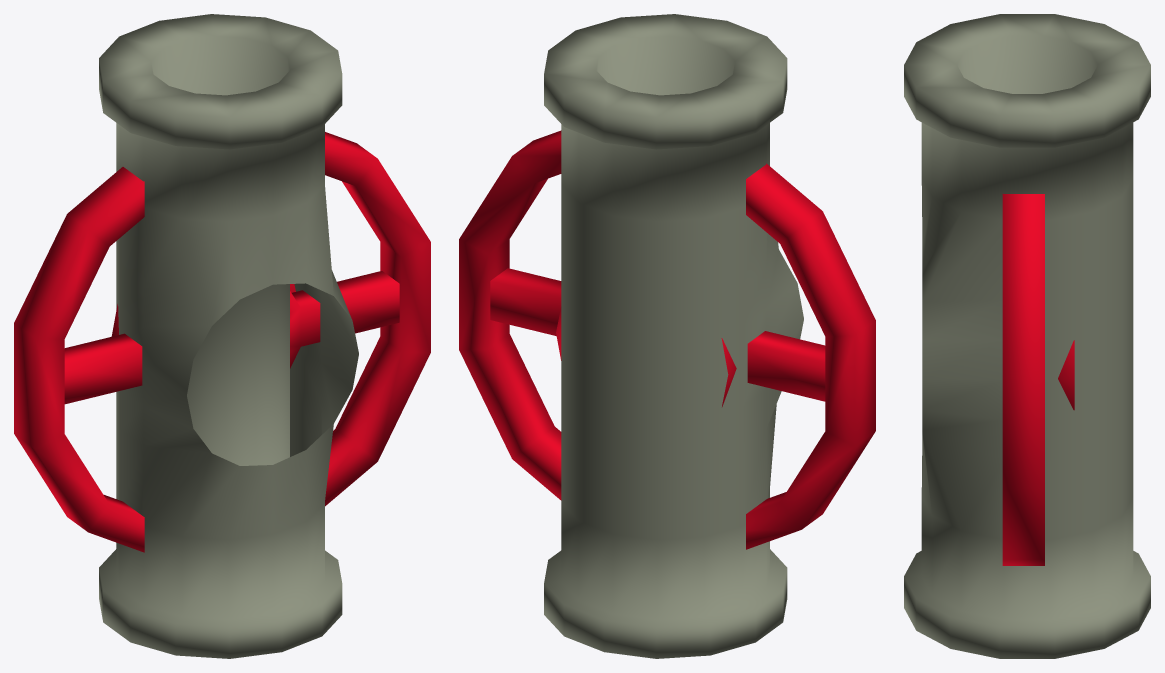
The model's file is pipeValve.fbx.
The picture shows the model from 3 angles, left to right: view 1: azimuth 30°, elevation 25°; view 2: azimuth 150°, elevation 25°; view 3: azimuth 270°, elevation 25°; orthographic projection.
Visible parts, largest first — view 1: Pipe_06; view 2: Pipe_06; view 3: Pipe_06.
Boxes of the visible parts, <box> form: Pipe_06: <box>14,14,430,658</box>; Pipe_06: <box>459,14,875,658</box>; Pipe_06: <box>904,14,1150,658</box>.
Size of the model in its own units: 79.47 by 104 by 42.77.
